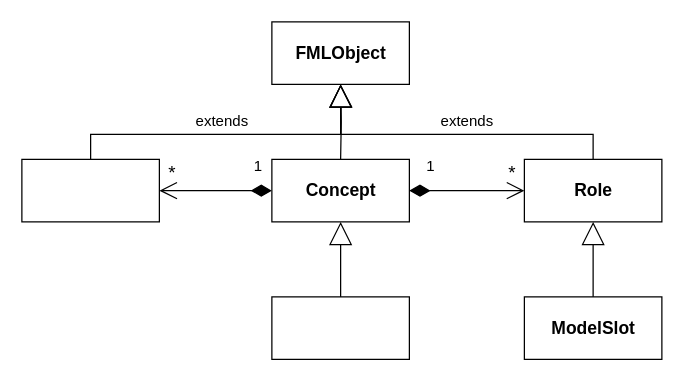
The diagram is 684 pixels wide and 381 high, and some of its shapes have lost their labels. Here are the shapes that lost their labels. From the top down, the centre of each, then its label:
At point (90, 190): "Behavior".
At point (340, 327): "VirtualModel".
